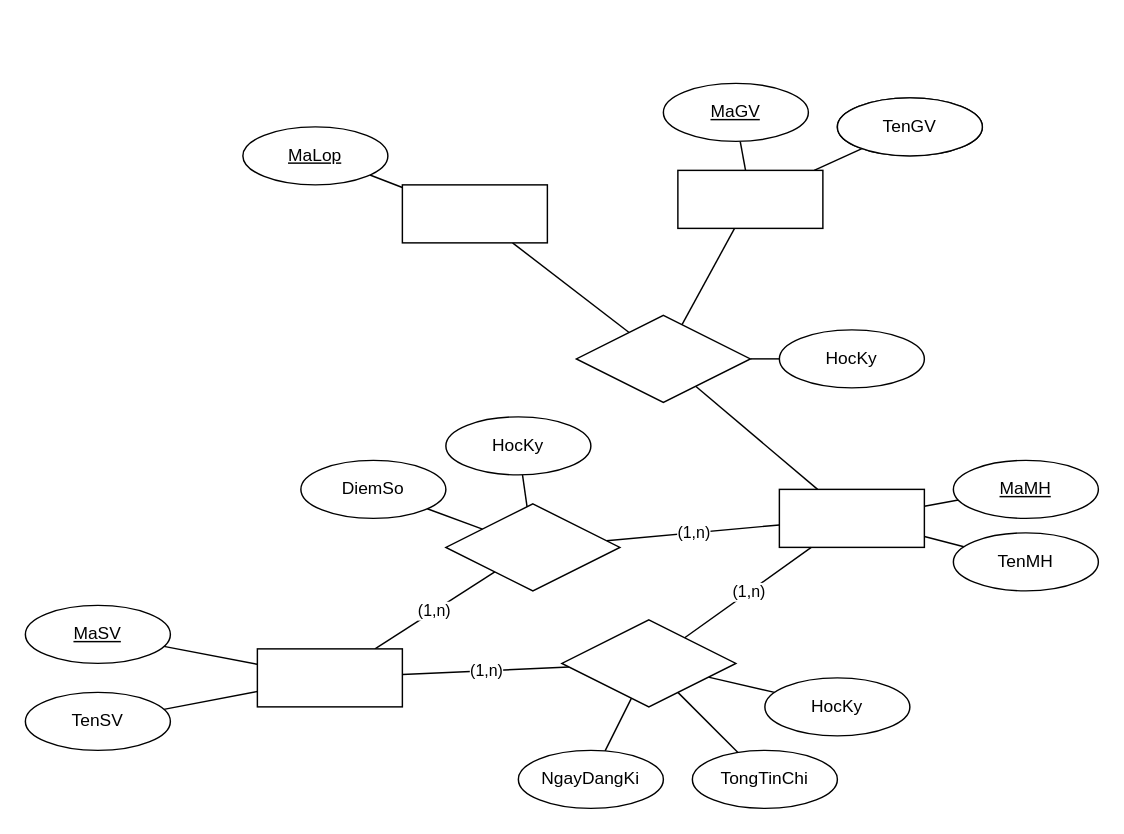
Some shapes in this 1124 by 834 pixel diagram are drawn without their labels. Here are the shapes that lost their labels. From the top down, the centre of each, then its label:
At (474,213): "LopHoc".
At (749,198): "GiaoVien".
At (662,358): "PhanCong".
At (851,517): "MonHoc".
At (532,546): "KetQuaMH".
At (329,677): "SinhVien".
At (648,662): "DangKyMH".
